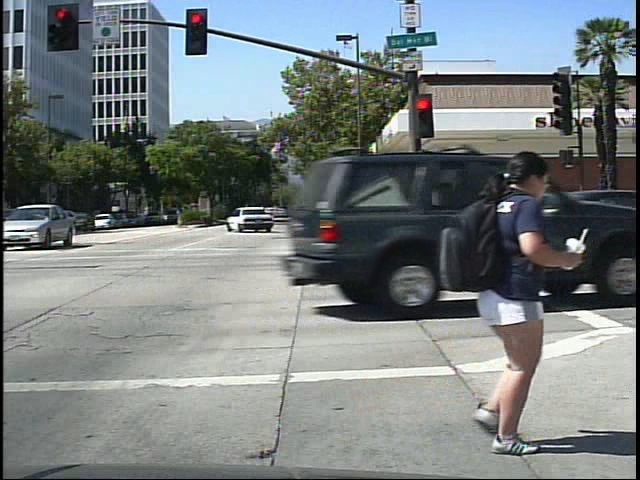person: (418, 129, 588, 458)
